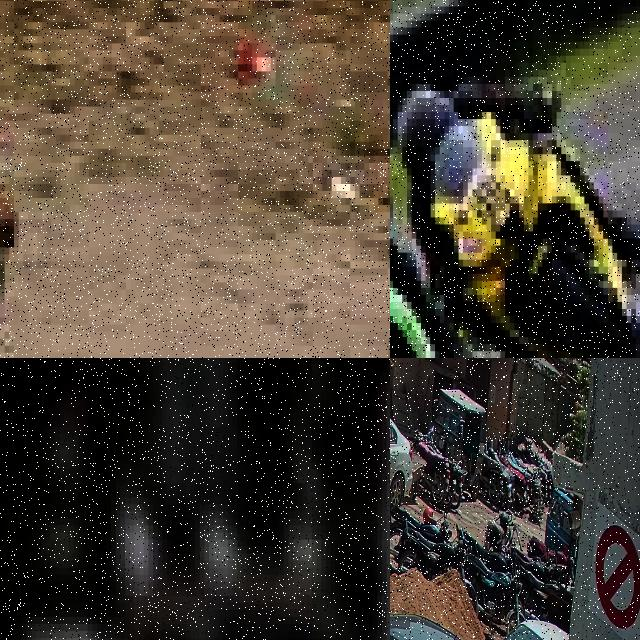bike: (402, 112, 640, 358), (0, 219, 247, 358), (393, 517, 467, 581), (466, 546, 523, 626), (390, 501, 448, 574), (413, 429, 450, 506), (461, 525, 516, 575), (527, 535, 574, 587), (520, 565, 560, 620), (518, 544, 551, 584), (481, 452, 504, 504), (484, 511, 513, 552)
